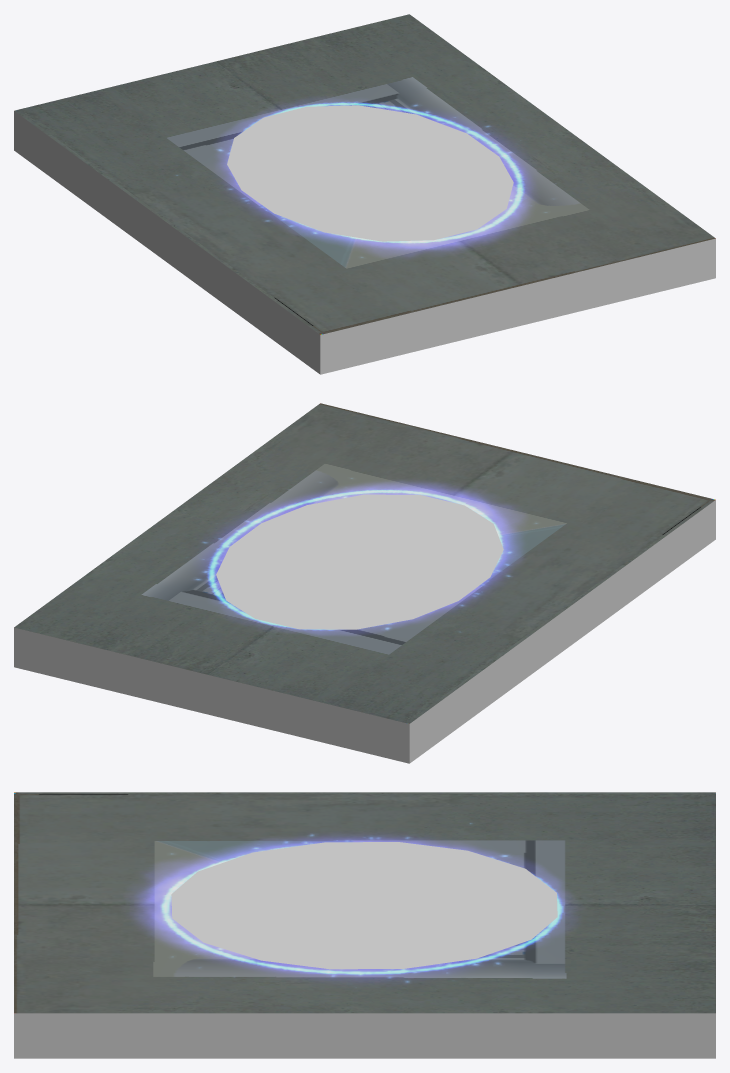
The model's file is Portal wall.fbx.
3 renders of one model, top to bottom at view 1: azimuth 30°, elevation 25°; view 2: azimuth 150°, elevation 25°; view 3: azimuth 270°, elevation 25°, orthographic. The views are drawn at different scales.
Parts seen in each view (by area): view 1: Clipboard-7f1a511f-30fb-42b2-99ab-c12cb10d0841.png, Object_1, Object_4, Object_3; view 2: Clipboard-7f1a511f-30fb-42b2-99ab-c12cb10d0841.png, Object_1, Object_6, Object_3; view 3: Clipboard-7f1a511f-30fb-42b2-99ab-c12cb10d0841.png, Object_1, Object_5.
Part boxes in pixels (left/top/right/bottom): Clipboard-7f1a511f-30fb-42b2-99ab-c12cb10d0841.png: left=14, top=14, right=715, bottom=334; Object_1: left=227, top=105, right=513, bottom=241; Object_4: left=320, top=238, right=715, bottom=374; Object_3: left=14, top=111, right=320, bottom=374; Clipboard-7f1a511f-30fb-42b2-99ab-c12cb10d0841.png: left=14, top=403, right=715, bottom=723; Object_1: left=216, top=494, right=503, bottom=629; Object_6: left=14, top=627, right=409, bottom=763; Object_3: left=409, top=500, right=715, bottom=763; Clipboard-7f1a511f-30fb-42b2-99ab-c12cb10d0841.png: left=14, top=792, right=715, bottom=1013; Object_1: left=171, top=842, right=557, bottom=969; Object_5: left=14, top=1013, right=715, bottom=1058.
Size of the model in its own units: 131 by 176 by 12.57.
Materials: 2 (1 with a texture image).
